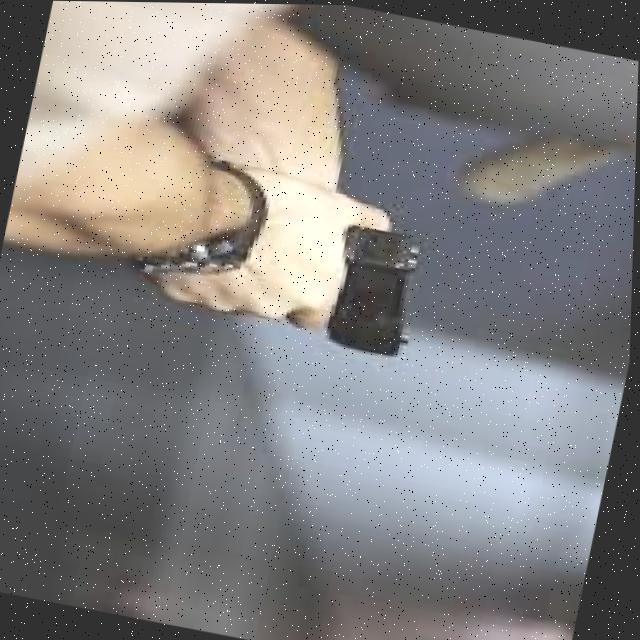pistol: (325, 220, 432, 359)
